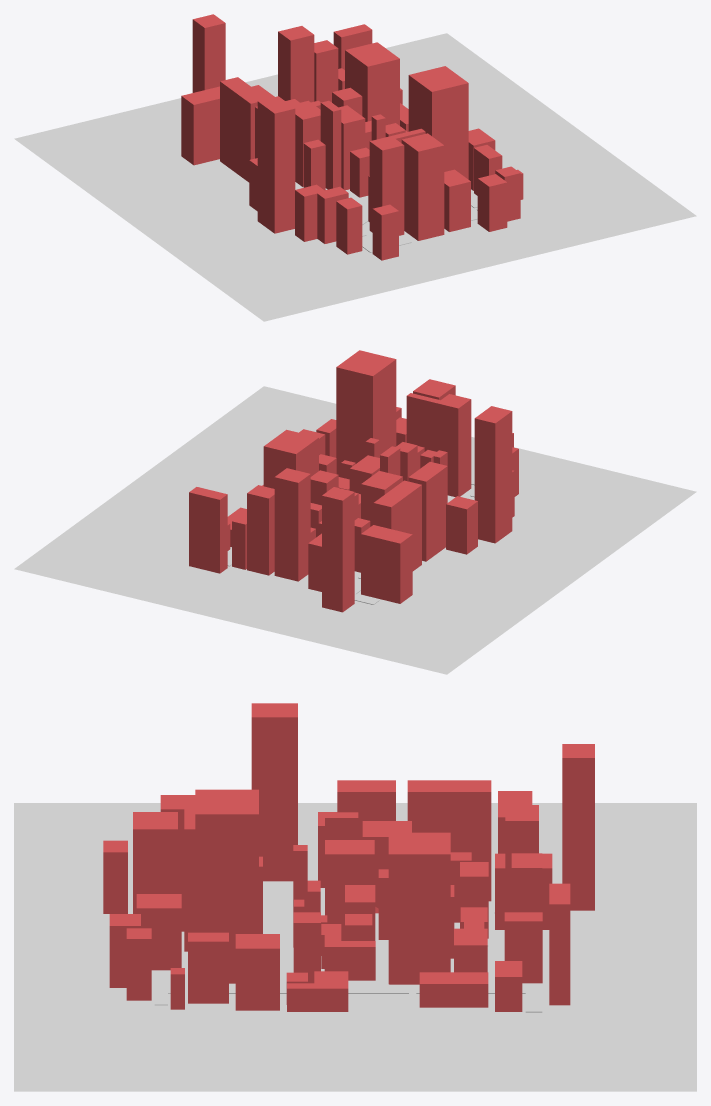
Rendered from level map blocked out.fbx.
3 views of the same model, one above another, from view 1: azimuth 30°, elevation 25°; view 2: azimuth 150°, elevation 25°; view 3: azimuth 270°, elevation 25° (orthographic). The views are drawn at different scales.
Visible parts, largest first — view 1: Plane, Cube.054, Cube.051, Cube.007, Cube.040, Cube.053, Cube.047, Cube.026, Cube.021, Cube.025, Cube.046, Cube.029 (+14 smaller); view 2: Plane, Cube.051, Cube.054, Cube.047, Cube.025, Cube.021, Cube.026, Cube.018, Cube.027, Cube.053, Cube.020, Cube.040 (+10 smaller); view 3: Plane, Cube.051, Cube.040, Cube.054, Cube.053, Cube.025, Cube.007, Cube.001, Cube.013, Cube.024, Cube.012, Cube.009 (+27 smaller).
Part boxes in pixels (box(x1,y1,x2,y2)): Plane: box(14, 33, 696, 321); Cube.054: box(257, 96, 295, 233); Cube.051: box(408, 66, 468, 179); Cube.007: box(401, 133, 444, 240); Cube.040: box(345, 42, 399, 125); Cube.053: box(220, 77, 267, 182); Cube.047: box(369, 128, 425, 235); Cube.026: box(181, 86, 219, 165); Cube.021: box(278, 26, 314, 102); Cube.025: box(192, 14, 225, 92); Cube.046: box(295, 184, 348, 243); Cube.029: box(320, 100, 341, 189); Plane: box(14, 386, 696, 674); Cube.051: box(336, 350, 396, 477); Cube.054: box(474, 406, 512, 543); Cube.047: box(406, 393, 471, 496); Cube.025: box(322, 487, 354, 612); Cube.021: box(274, 468, 310, 581); Cube.026: box(361, 525, 412, 603); Cube.018: box(189, 487, 227, 573); Cube.027: box(408, 461, 447, 561); Cube.053: box(373, 480, 421, 571); Cube.020: box(247, 485, 274, 575); Cube.040: box(263, 429, 318, 488); Plane: box(14, 803, 696, 1091); Cube.051: box(195, 789, 258, 983); Cube.040: box(388, 832, 450, 984); Cube.054: box(251, 703, 297, 881); Cube.053: box(407, 780, 491, 901); Cube.025: box(562, 744, 594, 910); Cube.007: box(133, 812, 177, 913); Cube.001: box(229, 885, 408, 993); Cube.013: box(235, 934, 279, 1010); Cube.024: box(325, 840, 374, 940); Cube.012: box(188, 932, 228, 1003); Cube.009: box(136, 894, 181, 970).
Bounding box in the file's own units: 651 × 181 × 651.
